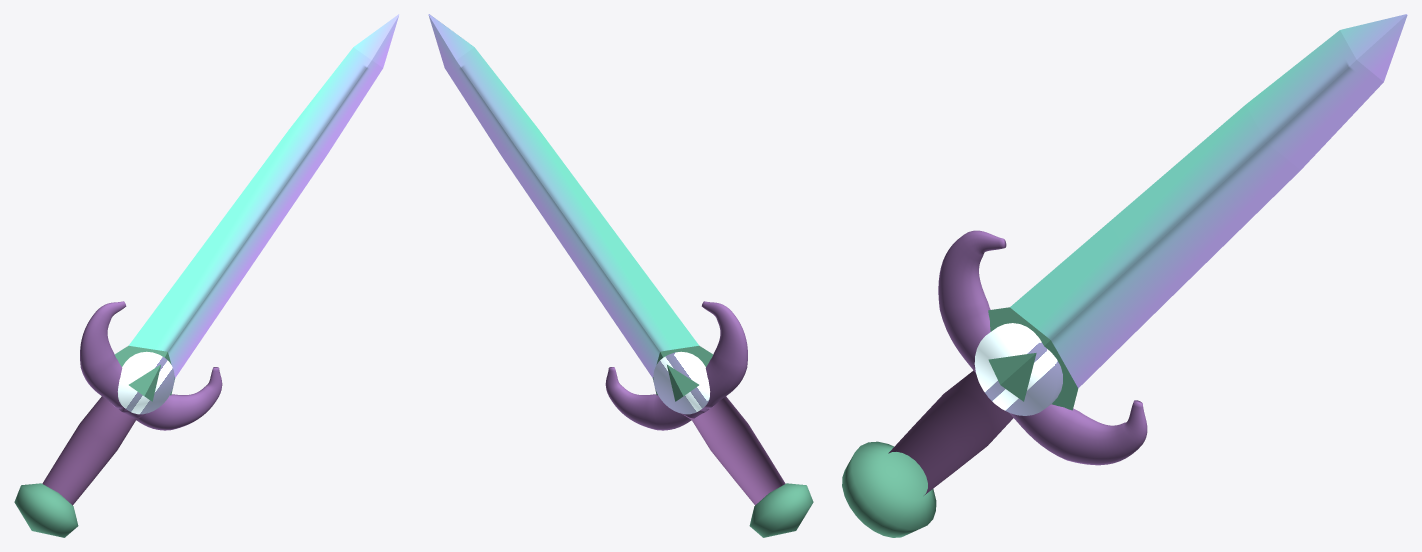
File: Prop_05_刚柔阴阳剑.glb
3 views of the same model, side by side, from view 1: azimuth 30°, elevation 25°; view 2: azimuth 150°, elevation 25°; view 3: azimuth 330°, elevation 25° (orthographic). The views are drawn at different scales.
Visible parts, largest first — view 1: SwordBlade, Hilt, LotusWing_-1, Pommel, LotusWing_1, Cylinder, Cone; view 2: SwordBlade, Hilt, LotusWing_-1, Pommel, LotusWing_1, Cylinder, Cone; view 3: SwordBlade, Hilt, Pommel, LotusWing_1, LotusWing_-1, Cylinder, Cone.
Boxes of the visible parts, box(x1,y1,x2,y2) form: SwordBlade: box(129, 14, 399, 377); Hilt: box(42, 396, 146, 505); LotusWing_-1: box(80, 301, 126, 408); Pommel: box(14, 483, 78, 537); LotusWing_1: box(118, 367, 222, 430); Cylinder: box(117, 347, 174, 414); Cone: box(114, 345, 175, 401); SwordBlade: box(428, 14, 698, 377); Hilt: box(681, 396, 785, 505); LotusWing_-1: box(701, 301, 747, 408); Pommel: box(749, 483, 813, 537); LotusWing_1: box(605, 367, 709, 430); Cylinder: box(653, 347, 710, 414); Cone: box(652, 345, 713, 401); SwordBlade: box(1010, 14, 1407, 388); Hilt: box(888, 370, 1013, 495); Pommel: box(842, 441, 936, 537); LotusWing_1: box(1009, 400, 1147, 465); LotusWing_-1: box(938, 230, 1006, 372); Cylinder: box(974, 323, 1062, 415); Cone: box(988, 307, 1078, 410).
Bounding box in the file's own units: 1.98 × 2.18 × 0.32.
Materials: 5 (2 with a texture image).
